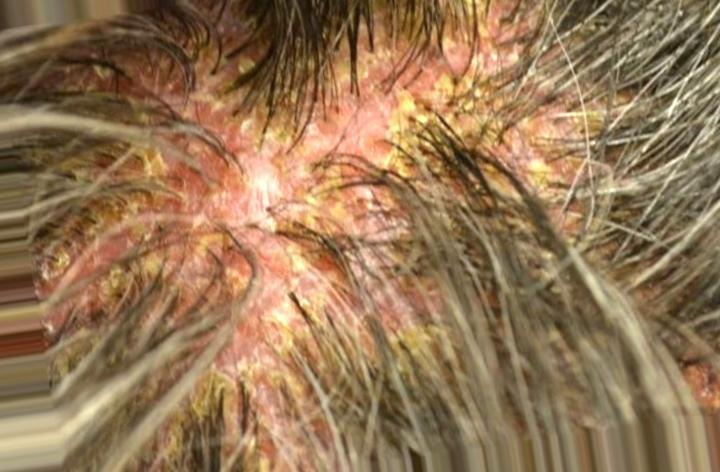Folliculitis: (75, 69, 411, 335)
